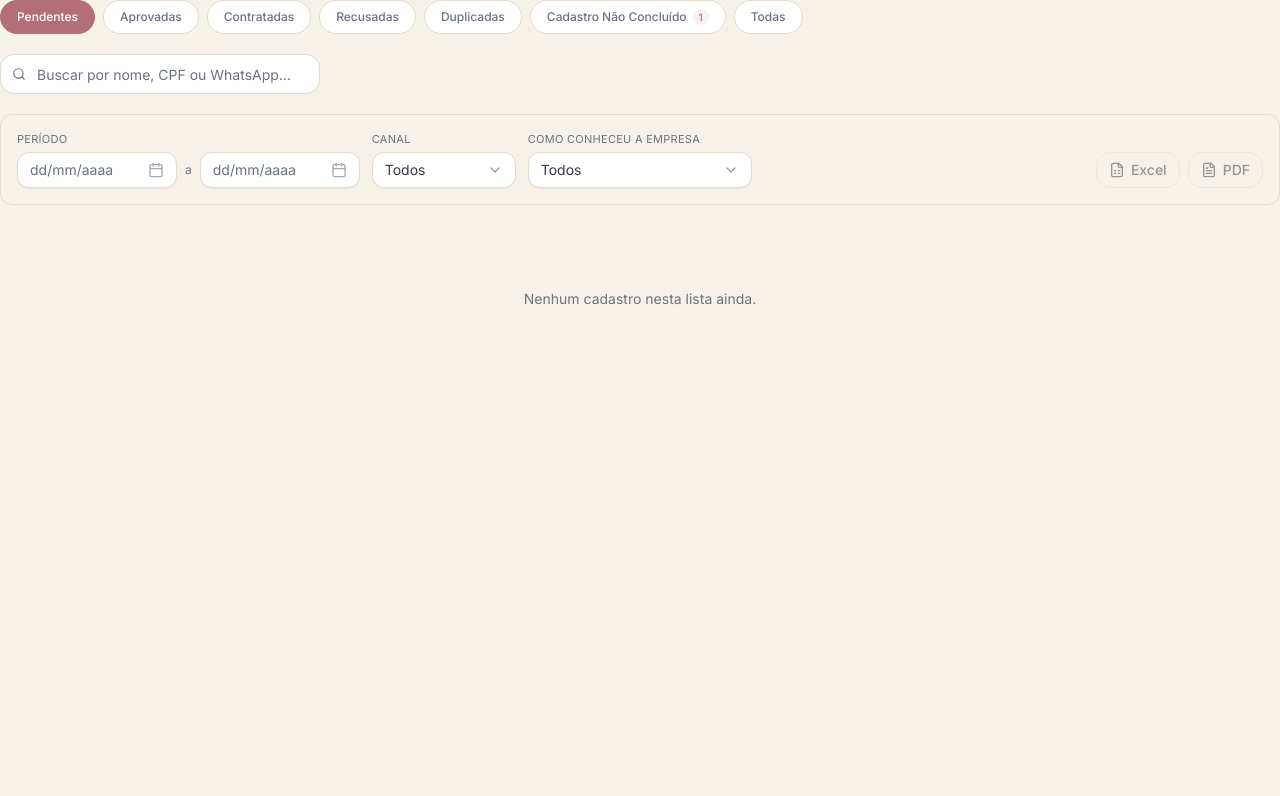
Scenario: Captação · respostas da candidata › exibe as respostas já salvas em cadastros incompletos e sinaliza as ausentes
The width and height of the screenshot is (1280, 796).
Click the button "Cadastro Não Concluído1" at (628, 17), box [530, 0, 726, 34]
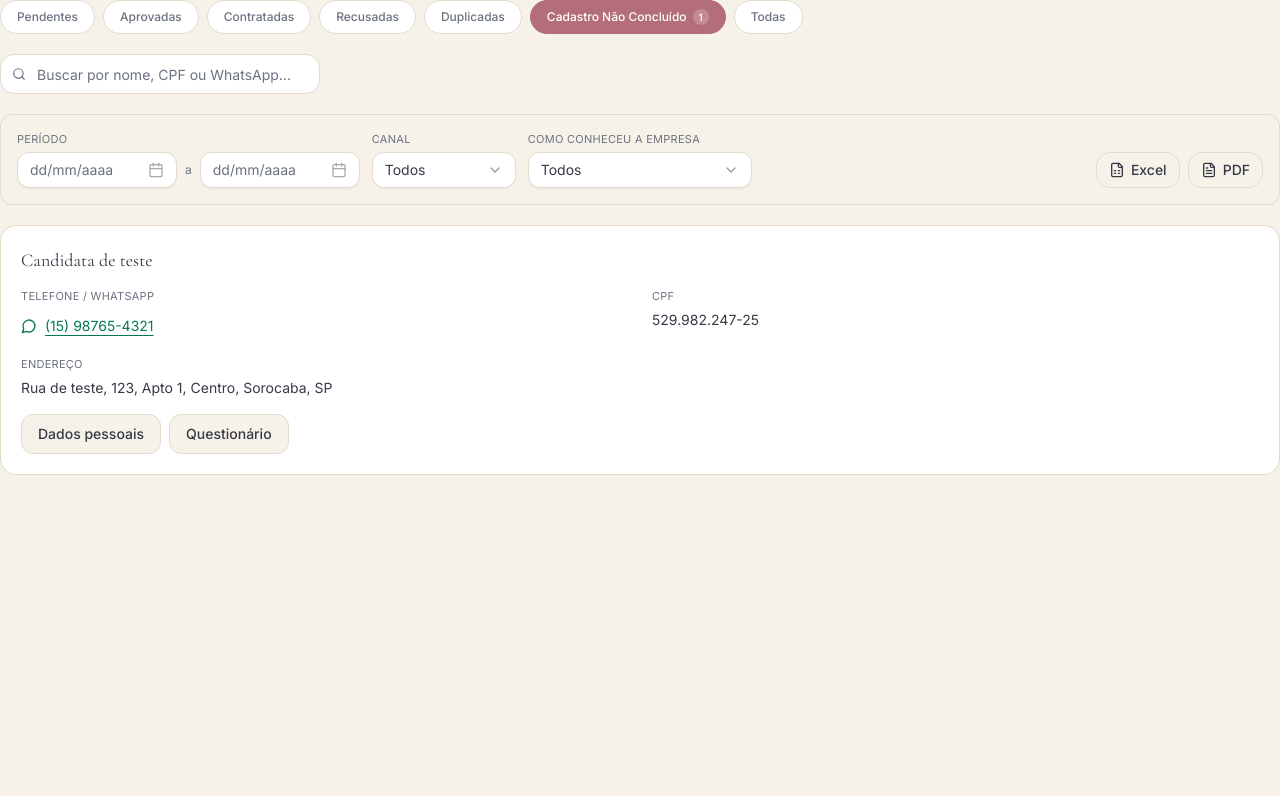
Check: the element "Respostas do cadastro" is not shown
Click the button "Questionário" at (229, 434), box [169, 414, 289, 454]
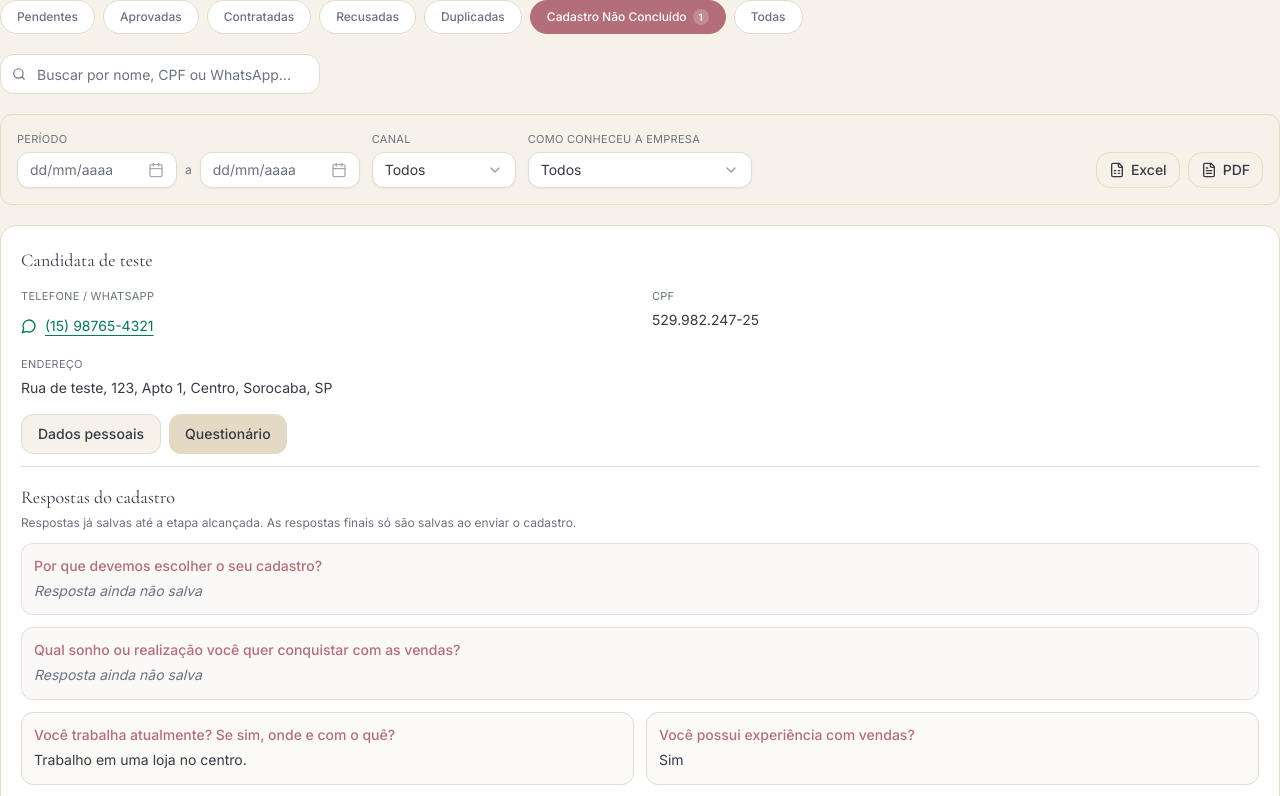
Check: the text "Trabalho em uma loja no centro." is shown, box [34, 751, 247, 768]
Check: the text "Resposta ainda não salva" below "Por que devemos escolher o seu cadastro?" is shown, box [34, 582, 202, 598]
Check: the text "As respostas finais só são salvas ao enviar o cadastro" is shown, box [21, 514, 576, 530]
Click the button "Dados pessoais" at (91, 434), box [21, 414, 161, 454]
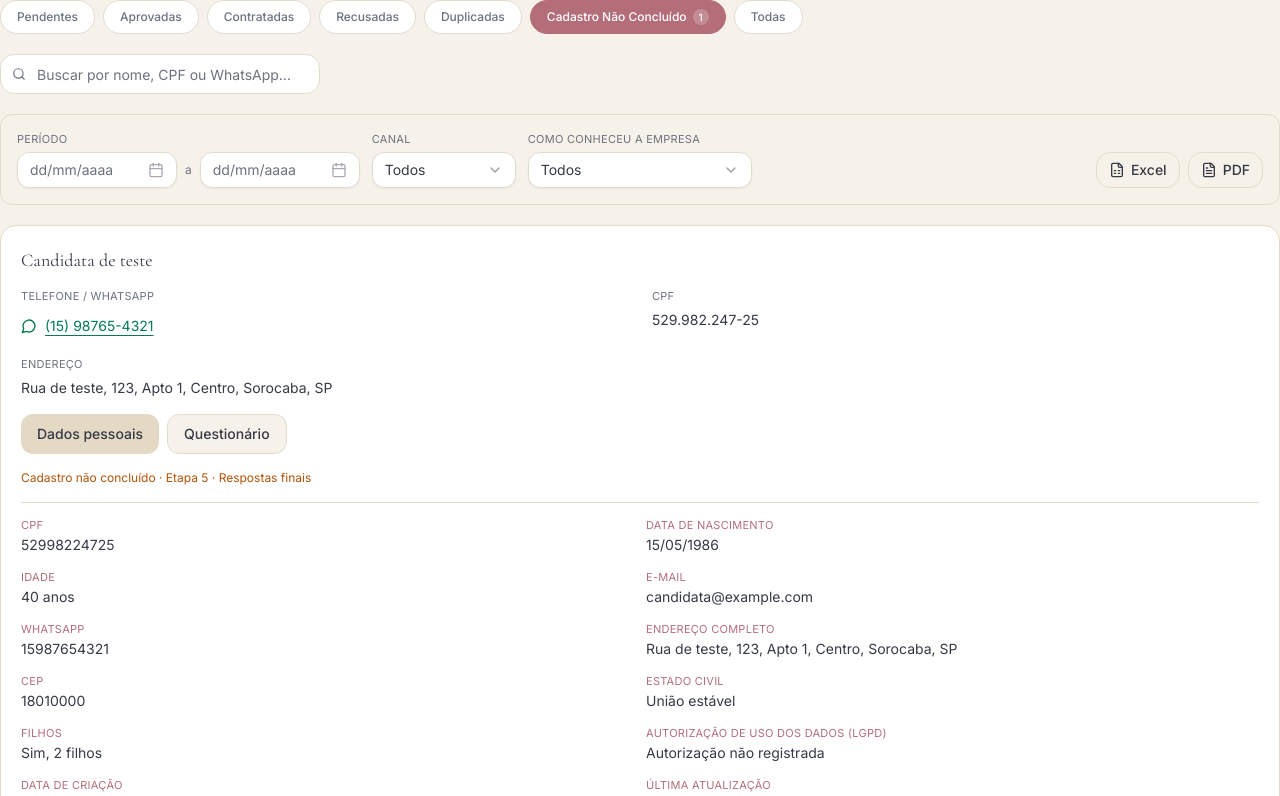
Check: the text "Autorização não registrada" is shown, box [646, 744, 825, 760]
